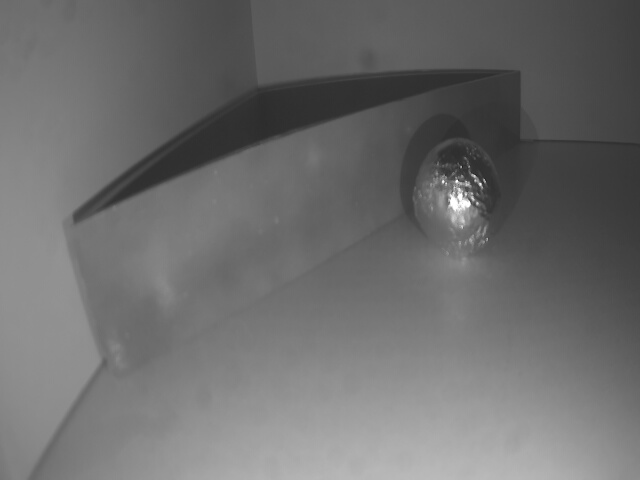Live: (410, 146, 508, 258)
Red: (68, 72, 523, 380)
